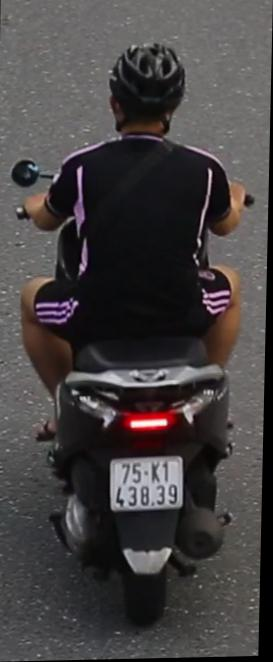LP: (107, 452, 189, 519)
helmet: (104, 36, 189, 151)
